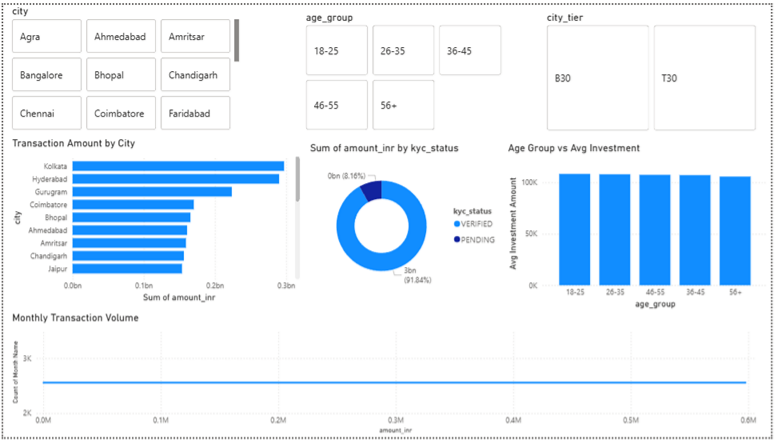

What the dashboard file says about the page in this screenshot:
{"tool":"powerbi","page":{"name":" Investor Analytics","canvas":[1280,720],"ordinal":2},"visuals":[{"type":"advancedSlicerVisual","fields":{"Values":["clean_investor_transactions.city"]},"box":[9.6,0,388.3,214.1],"z":0},{"type":"advancedSlicerVisual","fields":{"Values":["clean_investor_transactions.age_group"]},"box":[499.5,9.6,337.6,204.5],"z":1000},{"type":"advancedSlicerVisual","fields":{"Values":["clean_investor_transactions.city_tier"]},"box":[901.5,9.6,359.5,204.5],"z":2000},{"type":"clusteredBarChart","title":" Transaction Amount by City","fields":{"Category":["clean_investor_transactions.city"],"Y":["Sum(clean_investor_transactions.amount_inr)"]},"box":[9.6,219.6,489.9,279.9],"z":3000},{"type":"donutChart","fields":{"Category":["clean_investor_transactions.kyc_status"],"Y":["Sum(clean_investor_transactions.amount_inr)"]},"box":[506.3,229.2,330.7,260.7],"z":4000},{"type":"columnChart","title":"Age Group vs Avg Investment","fields":{"Y":["clean_investor_transactions.Avg Investment Amount"],"Category":["clean_investor_transactions.age_group"]},"box":[837.1,229.2,443.2,282.7],"z":5000},{"type":"lineChart","title":"Monthly Transaction Volume","fields":{"Category":["clean_investor_transactions.amount_inr"],"Y":["CountNonNull(DateTable.Month Name)"]},"box":[9.6,510.5,1251.5,209.9],"z":6000}]}

Visuals, with their boxes in screenshot pixels (x1, y1, x2, y2), scaled from the page's 1280x720 canvas onto the 775x448 screenshot:
advancedSlicerVisual - clean_investor_transactions.city: left=6, top=0, right=241, bottom=133
advancedSlicerVisual - clean_investor_transactions.age_group: left=302, top=6, right=507, bottom=133
advancedSlicerVisual - clean_investor_transactions.city_tier: left=546, top=6, right=763, bottom=133
" Transaction Amount by City" clusteredBarChart: left=6, top=137, right=302, bottom=311
donutChart - clean_investor_transactions.kyc_status x Sum(clean_investor_transactions.amount_inr): left=307, top=143, right=507, bottom=305
"Age Group vs Avg Investment" columnChart: left=507, top=143, right=774, bottom=319
"Monthly Transaction Volume" lineChart: left=6, top=318, right=764, bottom=447
